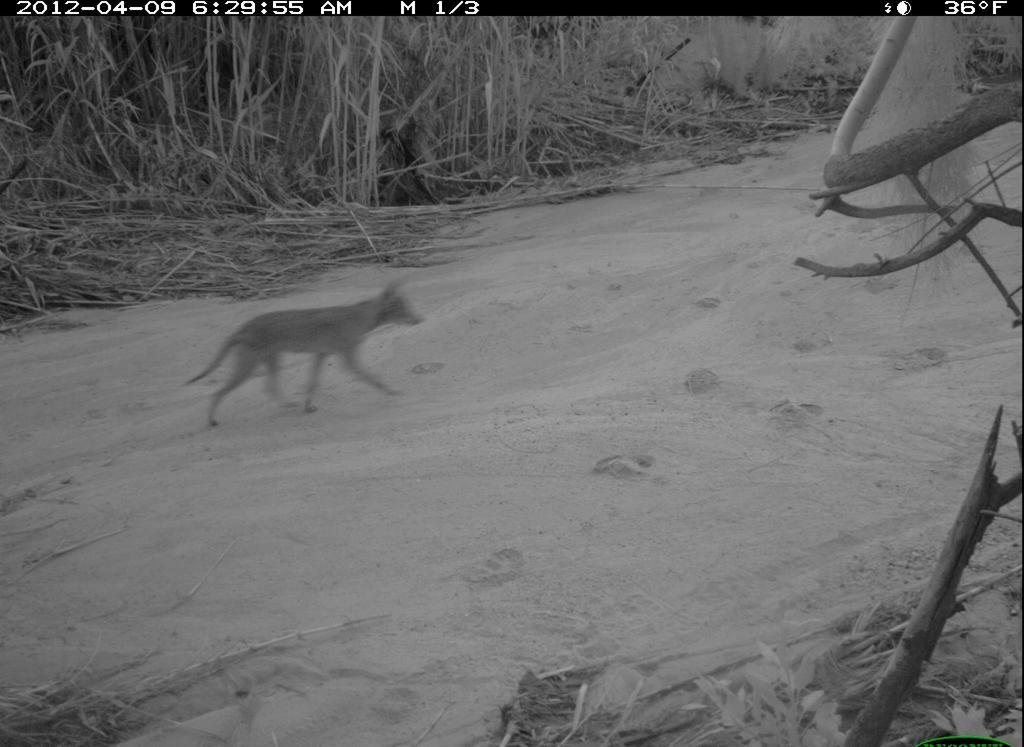coyote: (180, 283, 425, 434)
